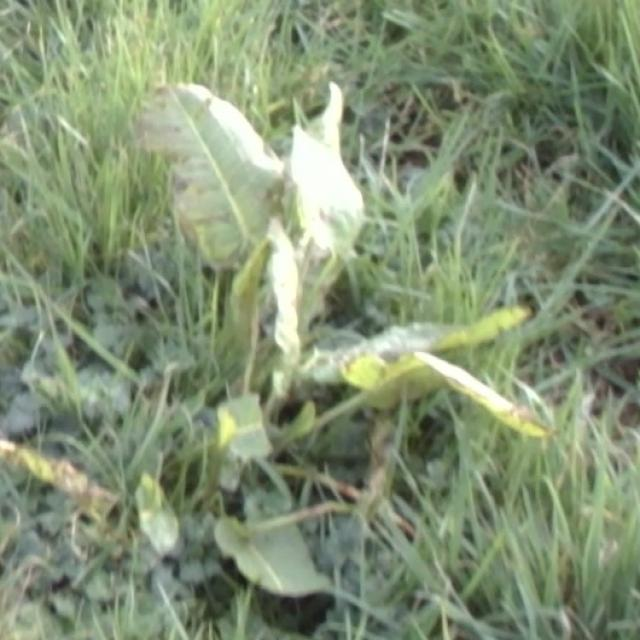organic waste: (87, 64, 568, 598)
